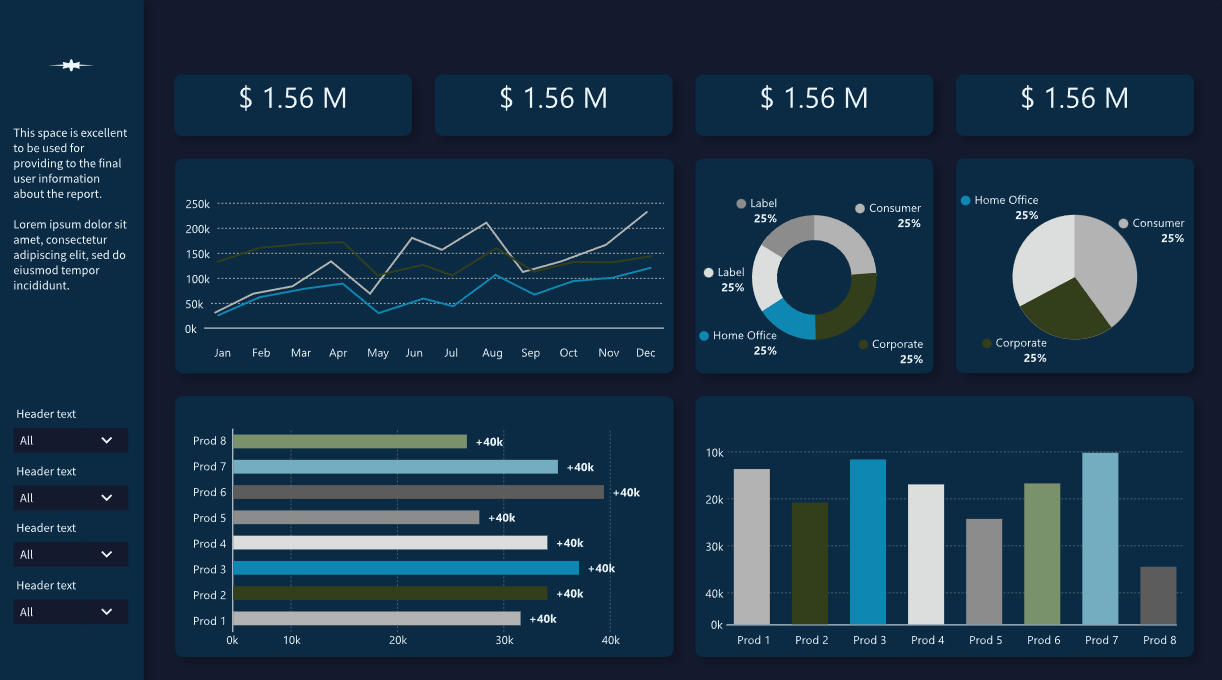

This screenshot's page, from the dashboard's own definition file:
{"tool":"powerbi","page":{"name":"Financials","canvas":[1280,720],"ordinal":0},"visuals":[{"type":"shape","box":[0,0,152,720],"z":0,"group":"g6"},{"type":"shape","box":[184,80,248,64],"z":0,"group":"g5"},{"type":"shape","box":[456,80,248,64],"z":0,"group":"g2"},{"type":"shape","box":[728,80,248,64],"z":0,"group":"g3"},{"type":"shape","box":[1000,80,248,64],"z":0,"group":"g4"},{"type":"slicer","fields":{"Values":["Date Table.Year"]},"box":[0,416,152,64],"z":0,"group":"g1"},{"type":"ribbonChart","fields":{"Category":["Date Table.Year-Month"],"Y":["financials. Sales - Sum"],"Series":["financials.Segment"]},"box":[183.8,417.3,520.4,271.4],"z":0},{"type":"card","title":"Sales","fields":{"Values":["financials. Sales - Sum"]},"box":[256,80,168,64],"z":1000,"group":"g5"},{"type":"card","title":"Sales","fields":{"Values":["financials.COGS - Sum"]},"box":[520,80,176,64],"z":1000,"group":"g2"},{"type":"card","title":"Sales","fields":{"Values":["financials.Units Sold - Sum"]},"box":[800,80,168,64],"z":1000,"group":"g3"},{"type":"textbox","box":[8,120,136,288],"z":1000,"group":"g6"},{"type":"lineChart","fields":{"Category":["Date Table.Date.Variation.Date Hierarchy.Year","Date Table.Date.Variation.Date Hierarchy.Quarter","Date Table.Date.Variation.Date Hierarchy.Month","Date Table.Date.Variation.Date Hierarchy.Day"],"Y":["financials.Profit - Sum"],"Series":["financials.Product"]},"box":[184,168,520,224],"z":1000},{"type":"slicer","fields":{"Values":["financials.Product"]},"box":[0,480,152,64],"z":1000,"group":"g1"},{"type":"image","box":[192,88,56,48],"z":2000,"group":"g5"},{"type":"image","box":[464,88,56,48],"z":2000,"group":"g2"},{"type":"image","box":[736,88,56,48],"z":2000,"group":"g3"},{"type":"donutChart","title":"Profit by product","fields":{"Category":["financials.Product"],"Y":["financials.Profit - Sum"]},"box":[728,168,248,224],"z":2000},{"type":"group","id":"g1","title":"Slicers","box":[0,416,152,257],"z":2000,"group":"g6"},{"type":"slicer","fields":{"Values":["financials.Segment"]},"box":[0,544,152,64],"z":2000,"group":"g1"},{"type":"tableEx","title":"Detailed table","fields":{"Values":["financials.Country","financials.Discount Band","financials.Product","financials. Sales - Sum","financials.Units Sold - Sum","financials.Profit - Sum","financials.Profit per unit"]},"box":[728,416,520,272],"z":3000},{"type":"slicer","fields":{"Values":["financials.Country"]},"box":[0,608,152,64],"z":3000,"group":"g1"},{"type":"columnChart","title":"Profit by country","fields":{"Category":["financials.Country"],"Y":["financials.Profit - Sum"],"Series":["financials.Country"]},"box":[1000,168,248,224],"z":4000},{"type":"group","id":"g2","title":"Header 4","box":[456,80,240,64],"z":5000},{"type":"group","id":"g3","title":"Header 3","box":[728,80,240,64],"z":6000},{"type":"group","id":"g4","title":"Header 2","box":[1000,80,248,64],"z":7000},{"type":"group","id":"g5","title":"Header 1","box":[184,80,248,64],"z":8000},{"type":"group","id":"g6","title":"Side Bar","box":[0,0,152,720],"z":9000},{"type":"image","box":[16.2,0,118.8,120],"z":10000},{"type":"textbox","box":[183.7,19,365.4,57.9],"z":11000}]}

Visuals, with their boxes in screenshot pixels (x1, y1, x2, y2), scaled from the page's 1280x720 canvas onto the 1222x680 screenshot:
shape: bbox=[0, 0, 145, 679]
shape: bbox=[176, 76, 412, 136]
shape: bbox=[435, 76, 672, 136]
shape: bbox=[695, 76, 932, 136]
shape: bbox=[955, 76, 1191, 136]
slicer - Date Table.Year: bbox=[0, 393, 145, 453]
ribbonChart - Date Table.Year-Month x financials. Sales - Sum: bbox=[175, 394, 672, 650]
"Sales" card: bbox=[244, 76, 405, 136]
"Sales" card: bbox=[496, 76, 664, 136]
"Sales" card: bbox=[764, 76, 924, 136]
textbox: bbox=[8, 113, 137, 385]
lineChart - Date Table.Date.Variation.Date Hierarchy.Year x Date Table.Date.Variation.Date Hierarchy.Quarter: bbox=[176, 159, 672, 370]
slicer - financials.Product: bbox=[0, 453, 145, 514]
image: bbox=[183, 83, 237, 128]
image: bbox=[443, 83, 496, 128]
image: bbox=[703, 83, 756, 128]
"Profit by product" donutChart: bbox=[695, 159, 932, 370]
"Slicers" group: bbox=[0, 393, 145, 636]
slicer - financials.Segment: bbox=[0, 514, 145, 574]
"Detailed table" tableEx: bbox=[695, 393, 1191, 650]
slicer - financials.Country: bbox=[0, 574, 145, 635]
"Profit by country" columnChart: bbox=[955, 159, 1191, 370]
"Header 4" group: bbox=[435, 76, 664, 136]
"Header 3" group: bbox=[695, 76, 924, 136]
"Header 2" group: bbox=[955, 76, 1191, 136]
"Header 1" group: bbox=[176, 76, 412, 136]
"Side Bar" group: bbox=[0, 0, 145, 679]
image: bbox=[15, 0, 129, 113]
textbox: bbox=[175, 18, 524, 73]
